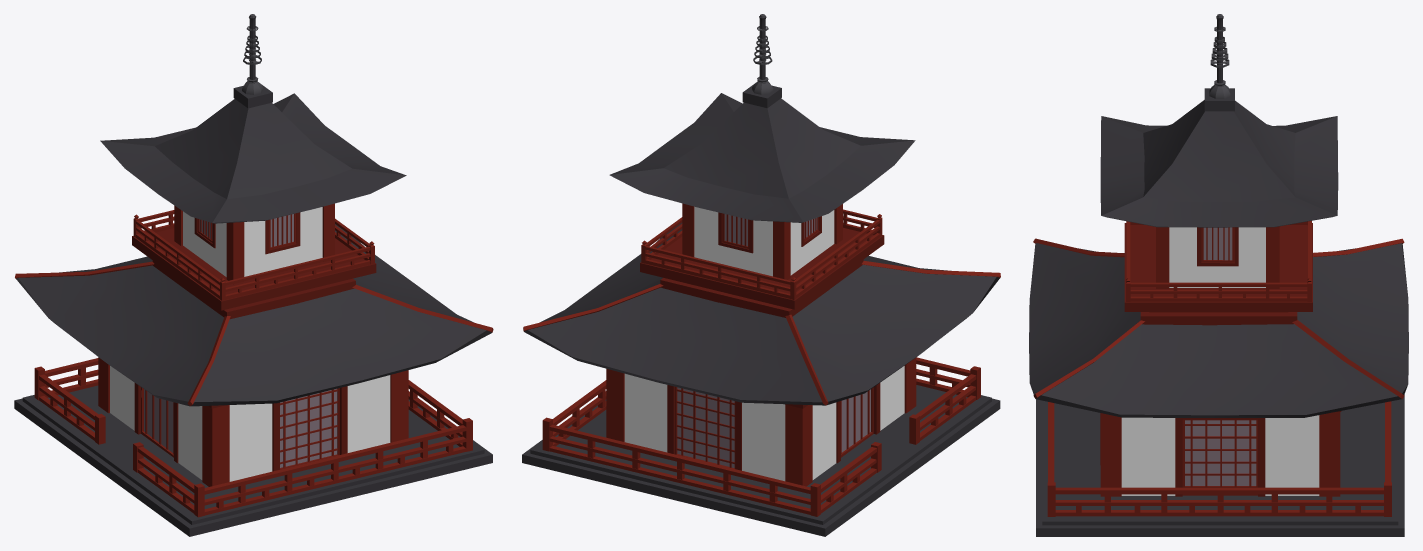
Rendered from houme07.fbx.
3 renders of one model, left to right at view 1: azimuth 30°, elevation 25°; view 2: azimuth 150°, elevation 25°; view 3: azimuth 270°, elevation 25°, orthographic. The views are drawn at different scales.
Visible parts, largest first — view 1: houme_7, foundation_7_1, fence_7_1, fence_7_2; view 2: houme_7, foundation_7_1, fence_7_1, fence_7_2; view 3: houme_7, foundation_7_1, fence_7_1, fence_7_2.
Boxes of the visible parts, x1,y1,x2,y2 form: houme_7: [15, 14, 493, 486]; foundation_7_1: [14, 385, 492, 536]; fence_7_1: [34, 358, 472, 517]; fence_7_2: [133, 210, 374, 300]; houme_7: [523, 14, 1000, 486]; foundation_7_1: [522, 385, 1000, 536]; fence_7_1: [542, 357, 980, 516]; fence_7_2: [641, 209, 882, 299]; houme_7: [1029, 14, 1408, 496]; foundation_7_1: [1036, 394, 1404, 536]; fence_7_1: [1047, 401, 1391, 516]; fence_7_2: [1126, 221, 1311, 301].
Size of the model in its own units: 1377 by 1776 by 1377.
